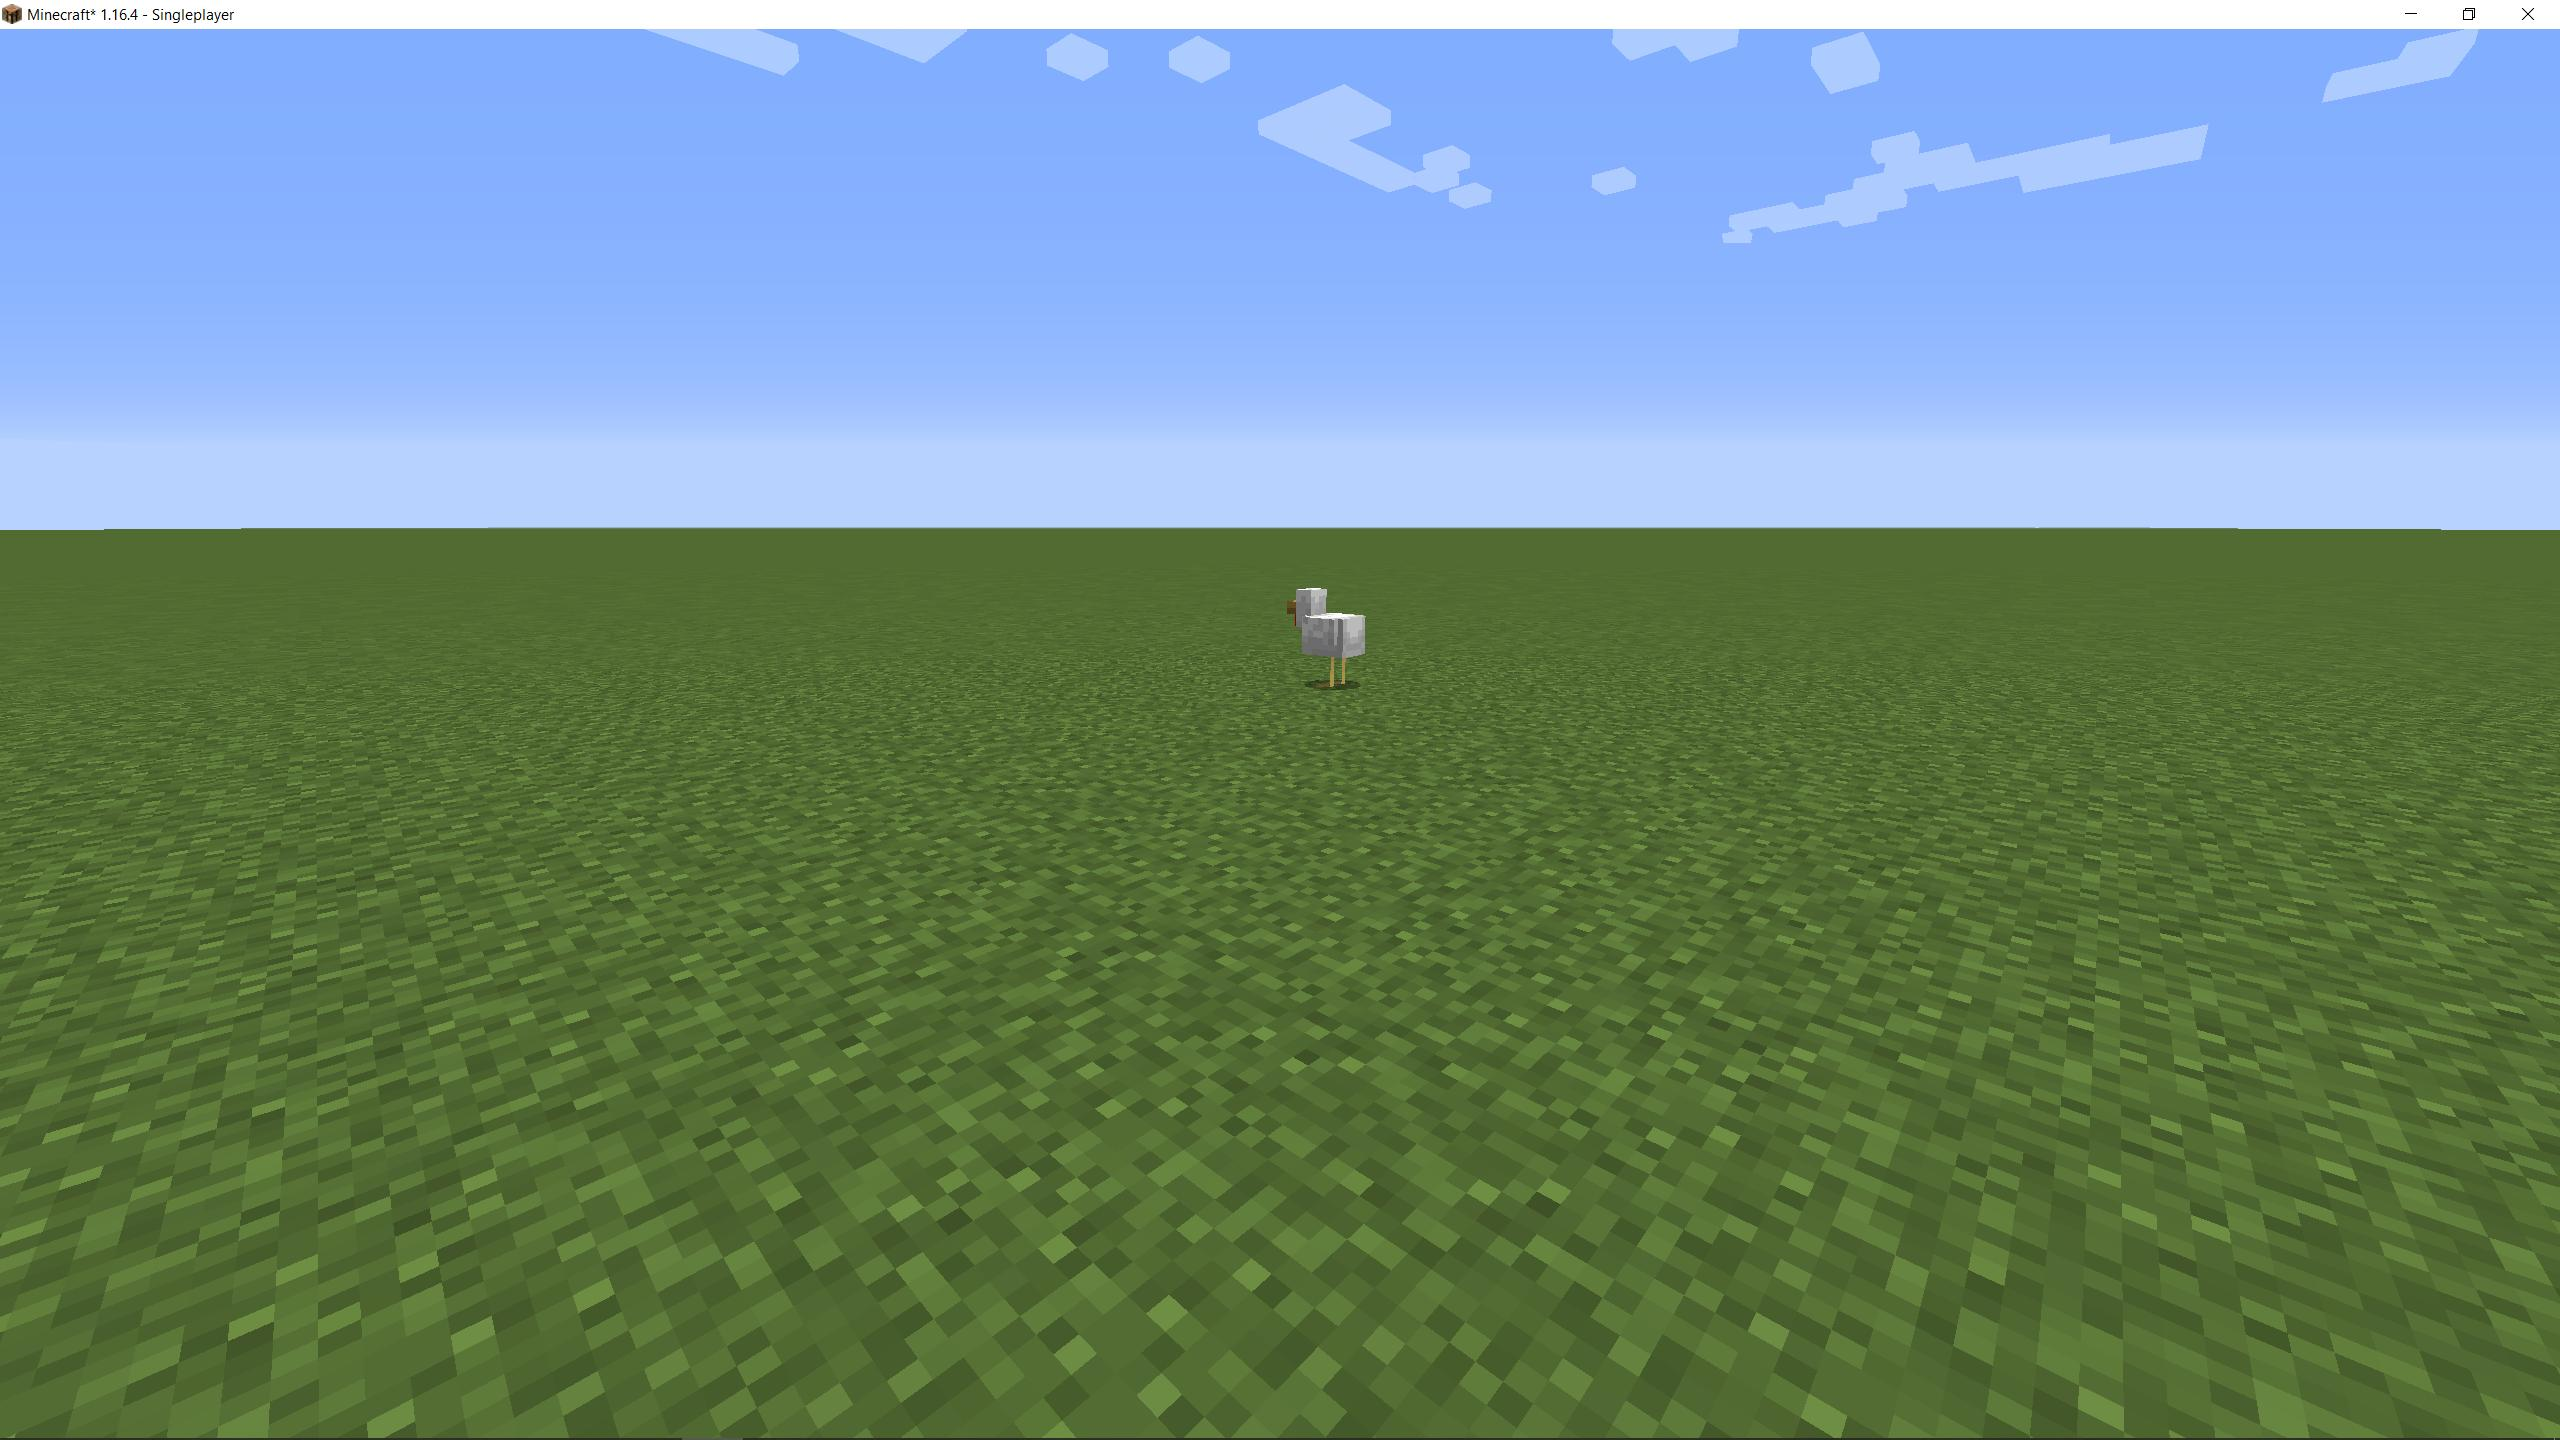chicken: (1276, 577, 1378, 705)
